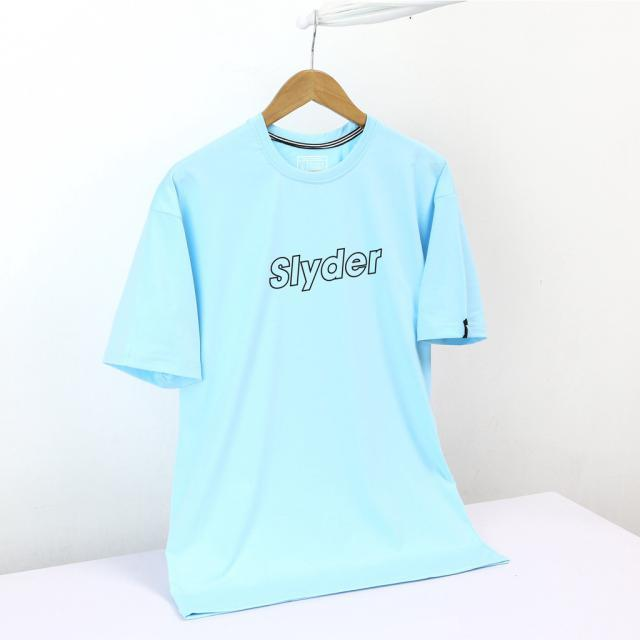Shirt: (108, 125, 488, 610)
